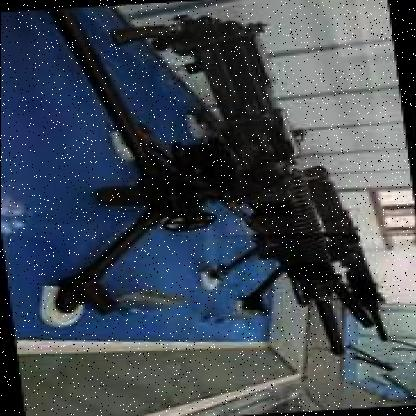rifle: (186, 12, 348, 369)
